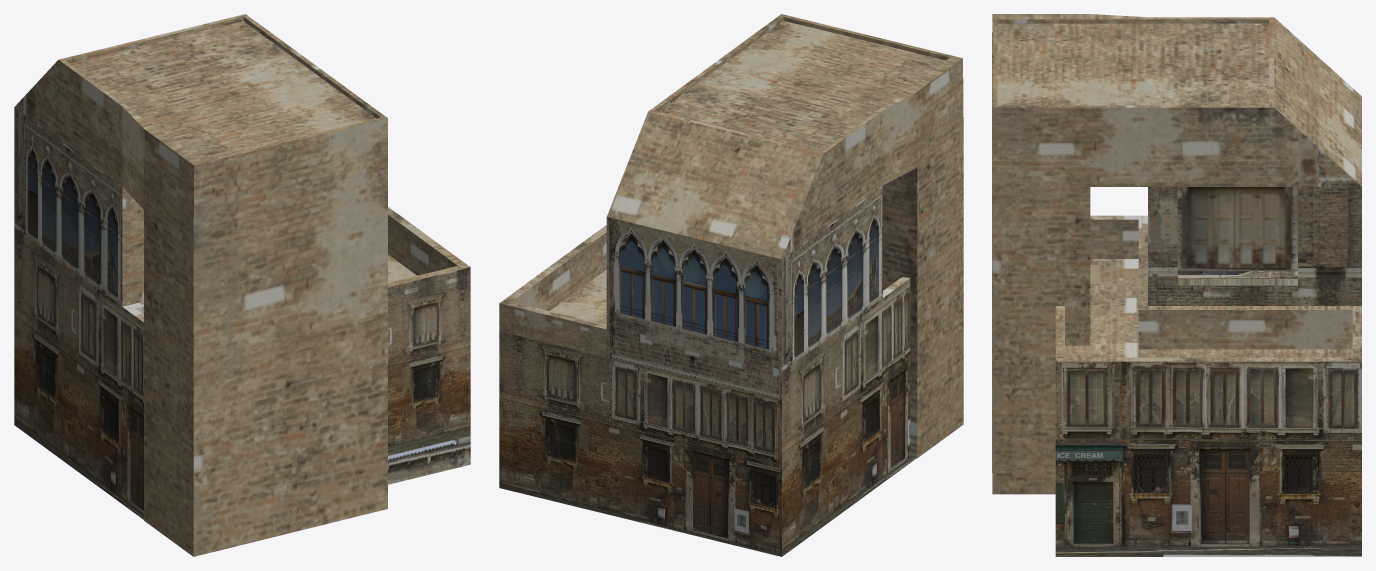
File: Building.fbx
The picture shows the model from 3 angles, left to right: view 1: azimuth 30°, elevation 25°; view 2: azimuth 150°, elevation 25°; view 3: azimuth 270°, elevation 25°; orthographic projection. The views are drawn at different scales.
Parts seen in each view (by area): view 1: Cube; view 2: Cube; view 3: Cube.
Boxes of the visible parts, x1,y1,x2,y2 form: Cube: [14, 14, 470, 556]; Cube: [499, 14, 963, 556]; Cube: [992, 14, 1361, 556].
Size of the model in its own units: 547 by 668 by 568.
